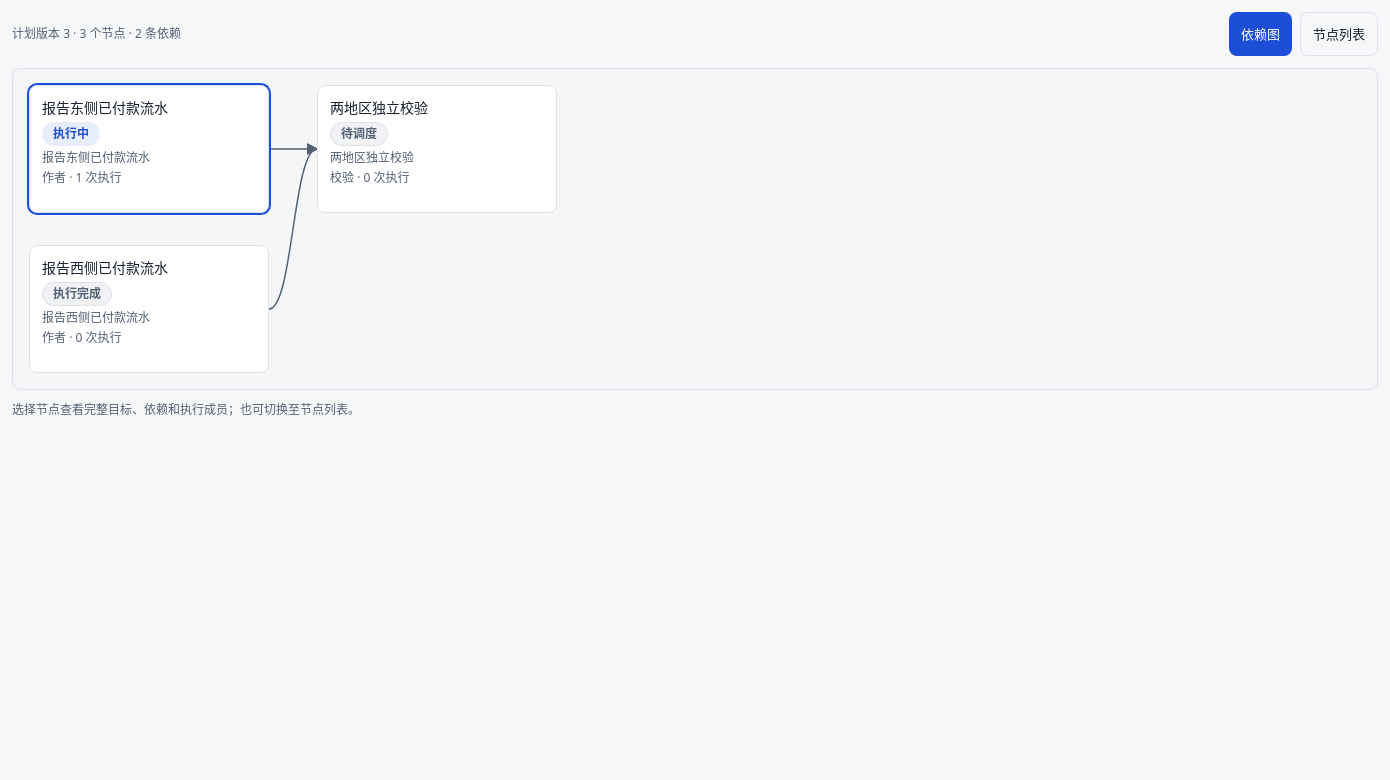
Test: 真实任务图展示 › 节点可键盘选择，完整目标/依赖与原Worker路由可达；执行完成不称验收
This screenshot has width=1390, height=780.
Press Enter
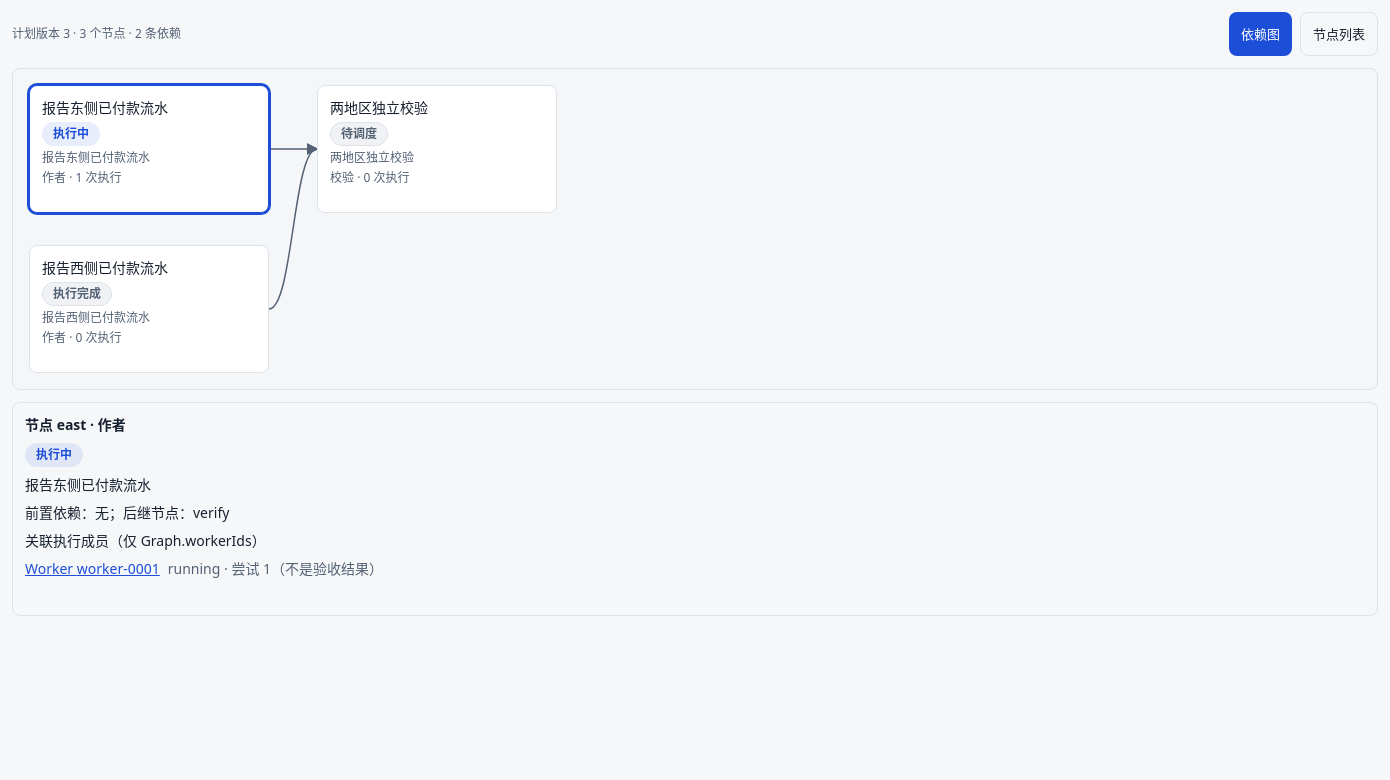
Expected: the element named "节点详情" shows "报告东侧已付款流水", [25,475,151,494]
Expected: the element named "节点详情" shows "后继节点：verify", [12,402,1378,616]
Expected: the element named "节点详情" shows "不是验收结果", [271,559,383,578]
Click the button "节点列表" at {"x": 1339, "y": 34}, box [1300,12,1378,56]
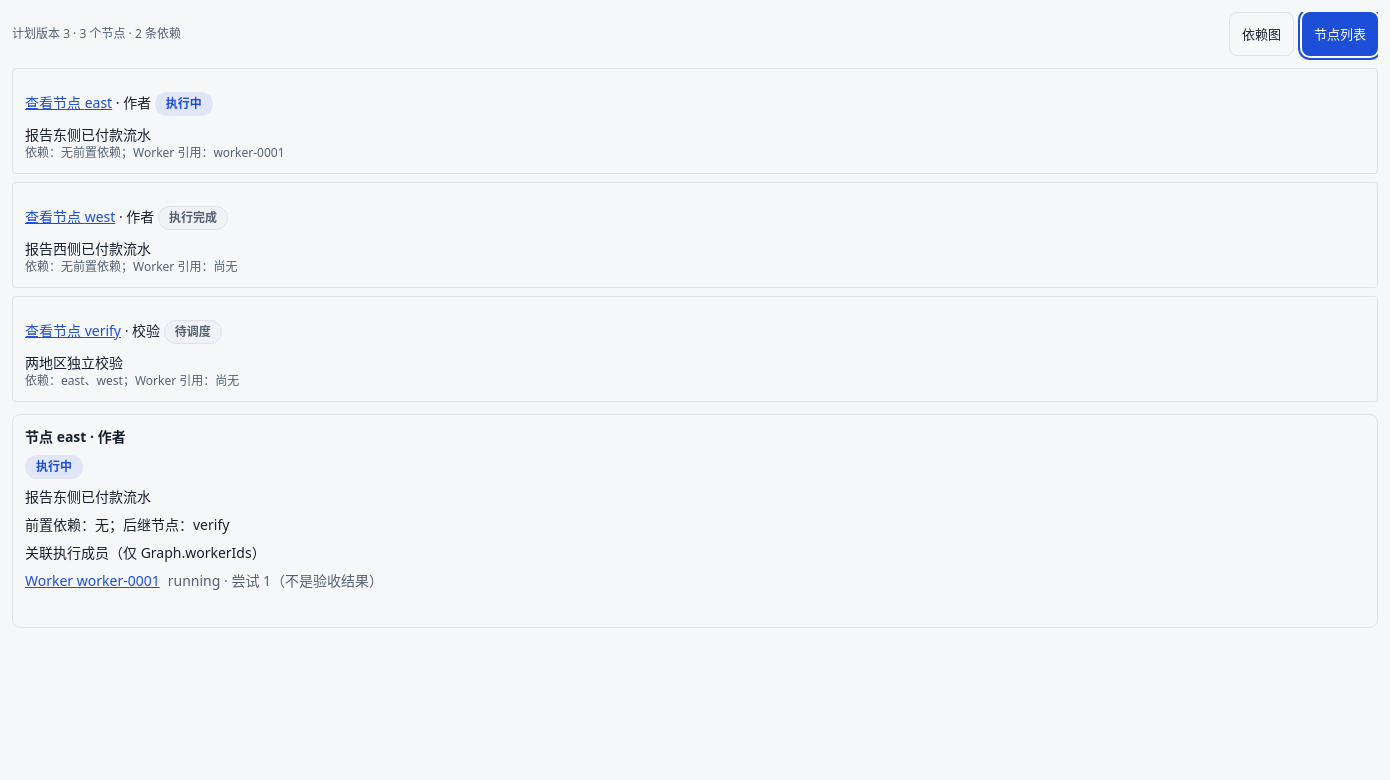
Expected: the list named "任务节点列表" shows "依赖：east、west", [12,68,1378,402]
Expected: the field labelled "任务依赖图画布" is gone
